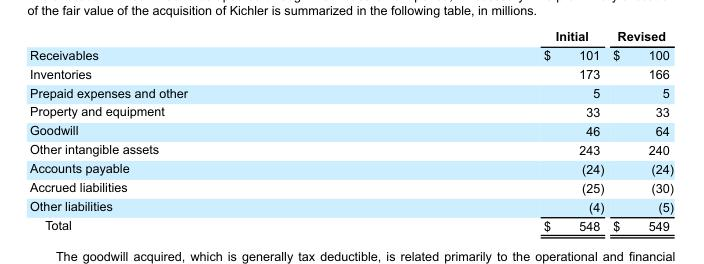table: (29, 29, 672, 232)
table column: (29, 29, 364, 232), (364, 29, 607, 232), (607, 29, 672, 232)
table column header: (29, 29, 672, 45)
table row: (29, 45, 672, 64), (29, 64, 672, 83), (29, 101, 672, 120), (29, 120, 672, 139), (29, 139, 672, 158), (29, 158, 672, 177), (29, 177, 672, 196), (29, 196, 672, 215), (29, 83, 672, 101), (29, 215, 672, 232), (29, 29, 672, 45)
